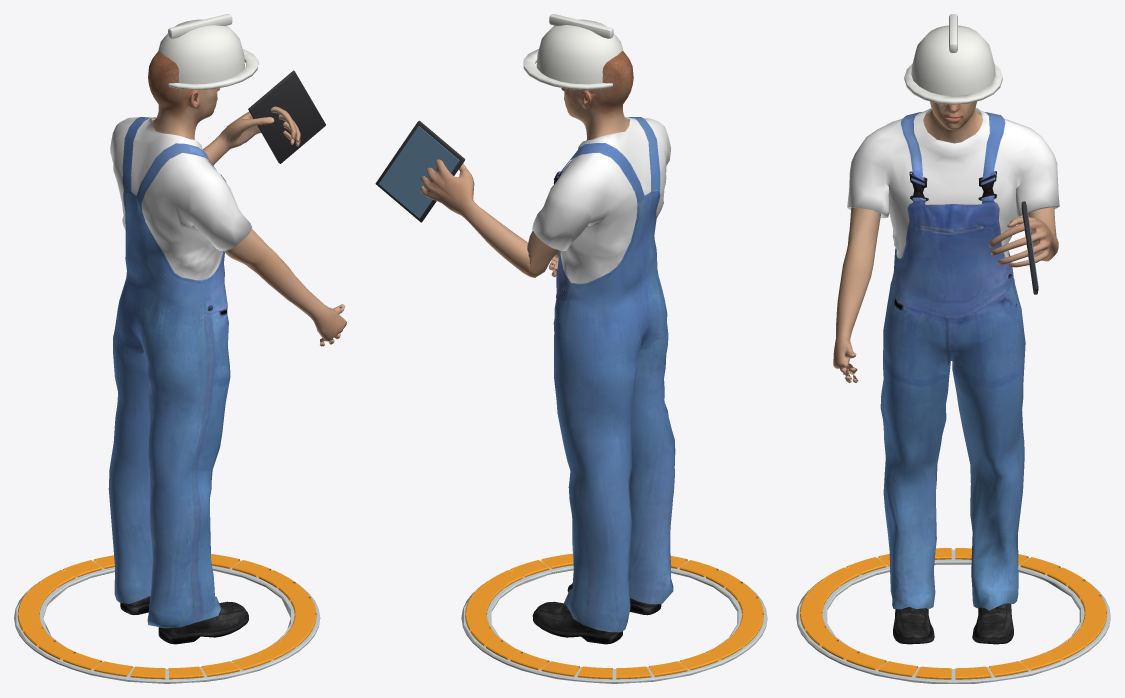
The model's file is MDO-TEC-001_lod1.glb.
The picture shows the model from 3 angles, left to right: view 1: azimuth 30°, elevation 25°; view 2: azimuth 150°, elevation 25°; view 3: azimuth 270°, elevation 25°; orthographic projection. The views are drawn at different scales.
Visible parts, largest first — view 1: MDO-TEC-001_pessoa_male_worksuit01, MDO-TEC-001_pessoa, MDO-TEC-001_capacete, MDO-TEC-001_anel_fundo, MDO-TEC-001_ferE_tablet, MDO-TEC-001_pessoa_shoes04, MDO-TEC-001_capacete_aba, MDO-TEC-001_capacete_friso; view 2: MDO-TEC-001_pessoa_male_worksuit01, MDO-TEC-001_pessoa, MDO-TEC-001_capacete, MDO-TEC-001_anel_fundo, MDO-TEC-001_ferE_tela, MDO-TEC-001_pessoa_shoes04, MDO-TEC-001_ferE_tablet, MDO-TEC-001_capacete_aba, MDO-TEC-001_capacete_friso; view 3: MDO-TEC-001_pessoa_male_worksuit01, MDO-TEC-001_pessoa, MDO-TEC-001_capacete, MDO-TEC-001_anel_fundo, MDO-TEC-001_pessoa_shoes04, MDO-TEC-001_capacete_aba, MDO-TEC-001_ferE_tablet.
Part boxes in pixels (x1,y1,x2,y2): MDO-TEC-001_pessoa_male_worksuit01: [108, 117, 252, 628]; MDO-TEC-001_pessoa: [148, 51, 346, 346]; MDO-TEC-001_capacete: [158, 19, 244, 84]; MDO-TEC-001_anel_fundo: [14, 560, 320, 683]; MDO-TEC-001_ferE_tablet: [248, 70, 325, 163]; MDO-TEC-001_pessoa_shoes04: [120, 596, 248, 644]; MDO-TEC-001_capacete_aba: [168, 49, 258, 90]; MDO-TEC-001_capacete_friso: [168, 14, 232, 38]; MDO-TEC-001_pessoa_male_worksuit01: [532, 117, 675, 632]; MDO-TEC-001_pessoa: [420, 51, 633, 277]; MDO-TEC-001_capacete: [536, 19, 623, 84]; MDO-TEC-001_anel_fundo: [461, 560, 767, 683]; MDO-TEC-001_ferE_tela: [379, 126, 459, 218]; MDO-TEC-001_pessoa_shoes04: [532, 582, 661, 644]; MDO-TEC-001_ferE_tablet: [375, 120, 465, 222]; MDO-TEC-001_capacete_aba: [523, 49, 612, 90]; MDO-TEC-001_capacete_friso: [549, 14, 613, 38]; MDO-TEC-001_pessoa_male_worksuit01: [847, 108, 1059, 610]; MDO-TEC-001_pessoa: [833, 101, 1058, 382]; MDO-TEC-001_capacete: [911, 25, 995, 96]; MDO-TEC-001_anel_fundo: [796, 549, 1110, 683]; MDO-TEC-001_pessoa_shoes04: [893, 603, 1013, 644]; MDO-TEC-001_capacete_aba: [904, 64, 1002, 104]; MDO-TEC-001_ferE_tablet: [1021, 201, 1037, 294].
Bounding box in the file's own units: 1.05 × 1.79 × 0.84.
10 materials, 5 textured.
